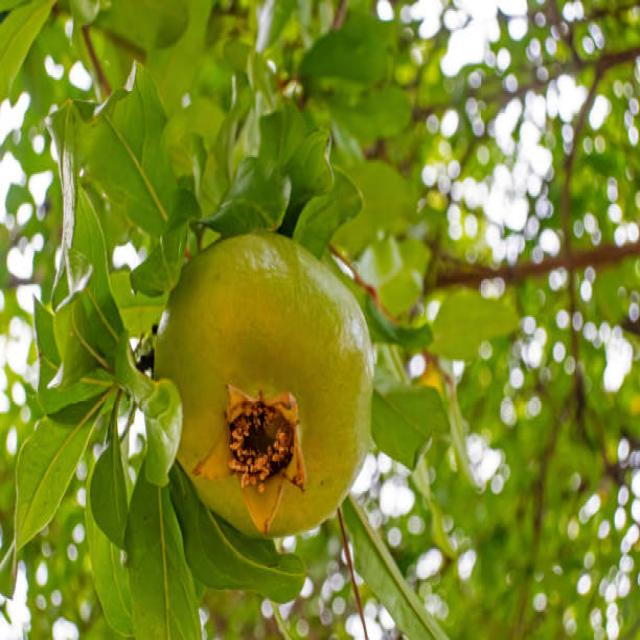Unripe: (152, 228, 375, 541)
